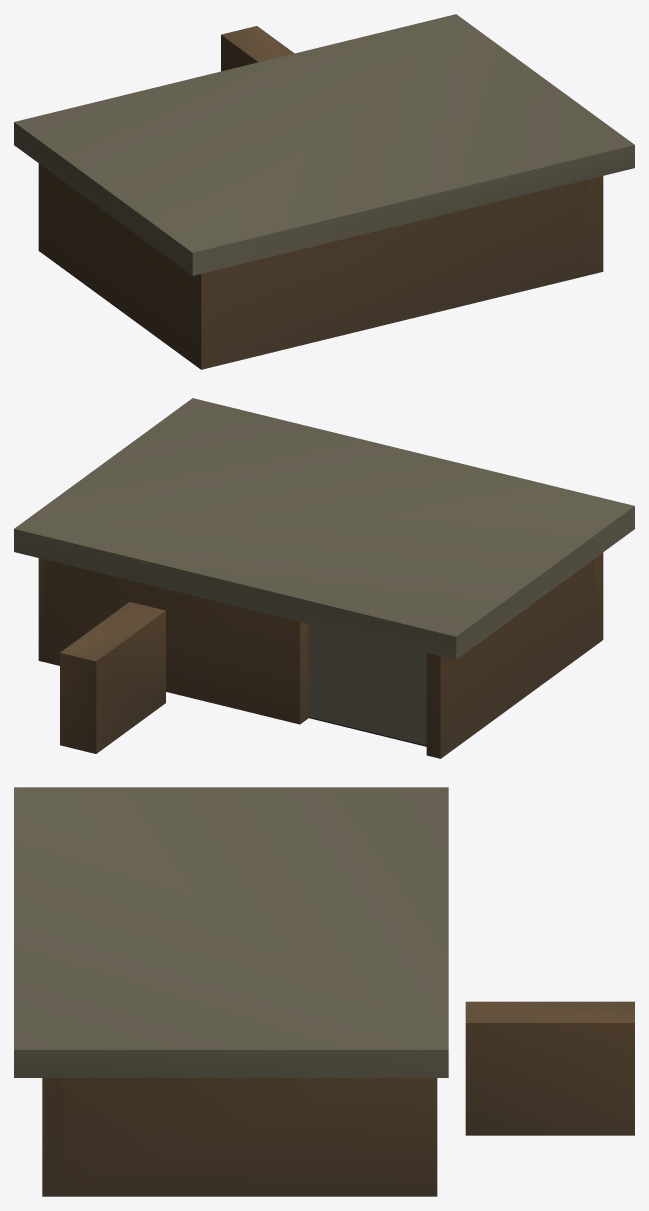
The model's file is m01_shelter_intact_lod2.glb.
3 views of the same model, one above another, from view 1: azimuth 30°, elevation 25°; view 2: azimuth 150°, elevation 25°; view 3: azimuth 270°, elevation 25° (orthographic). The views are drawn at different scales.
Visible parts, largest first — view 1: shelter; view 2: shelter; view 3: shelter.
Boxes of the visible parts, box(x1,y1,x2,y2) form: shelter: box(14, 14, 634, 369); shelter: box(14, 398, 634, 758); shelter: box(14, 787, 634, 1196).
Size of the model in its own units: 11 by 3.1 by 11.
